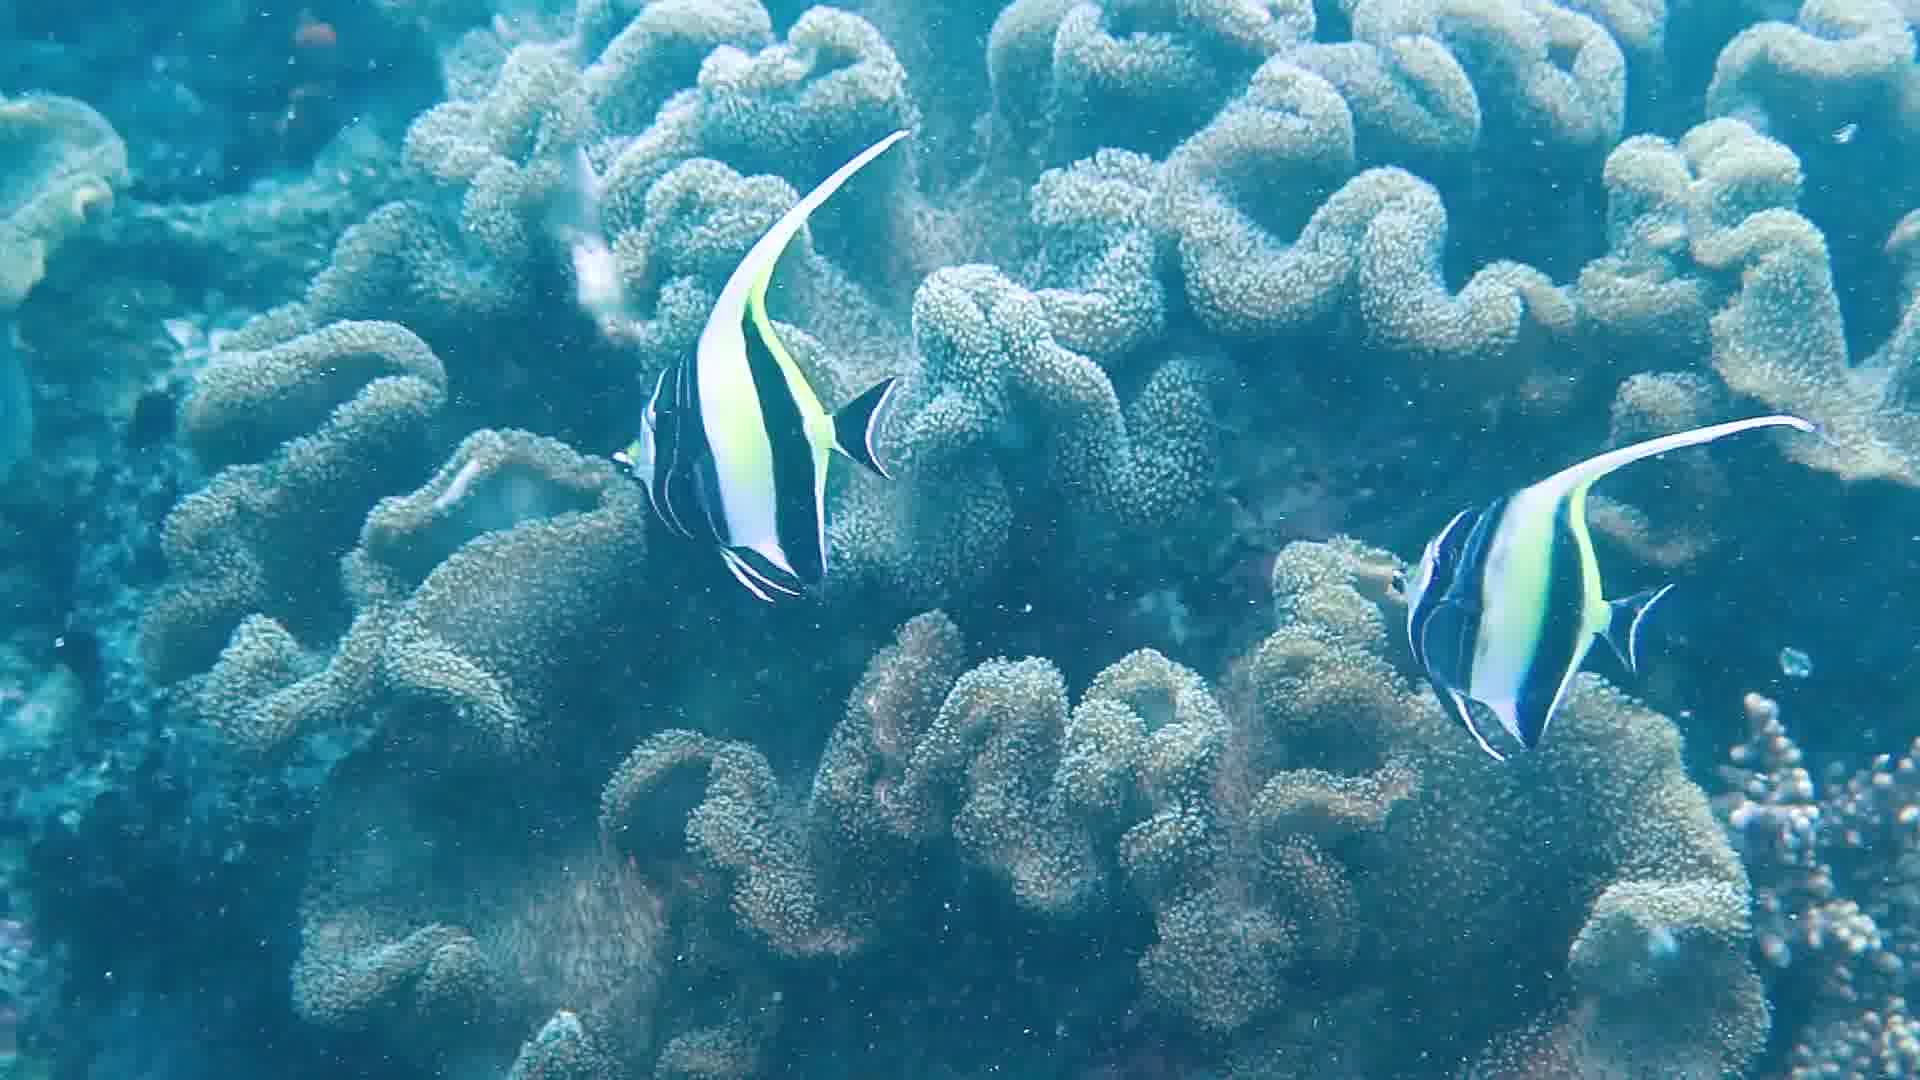Zanclus cornutus: (611, 251, 902, 591), (1389, 435, 1669, 746)
